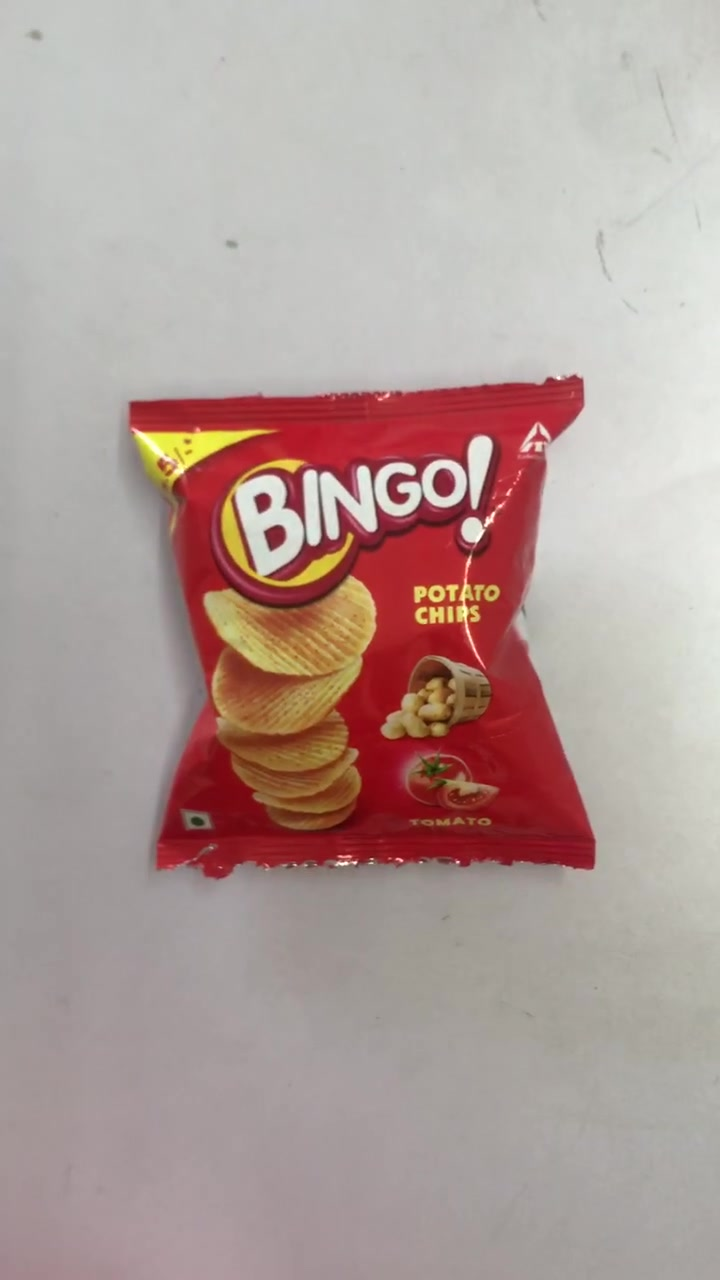Bingo: (130, 399, 595, 863)
